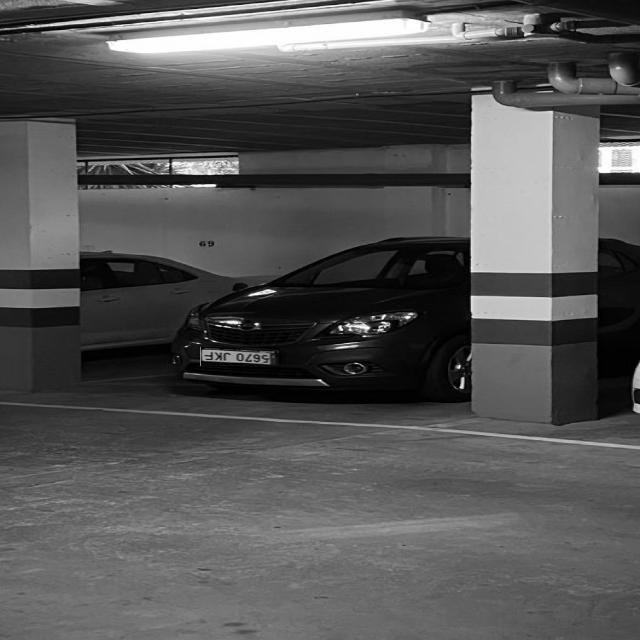License-Plate: (200, 346, 279, 366)
